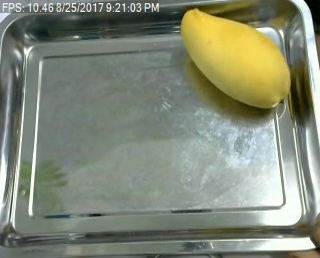Mango: (176, 9, 292, 112)
